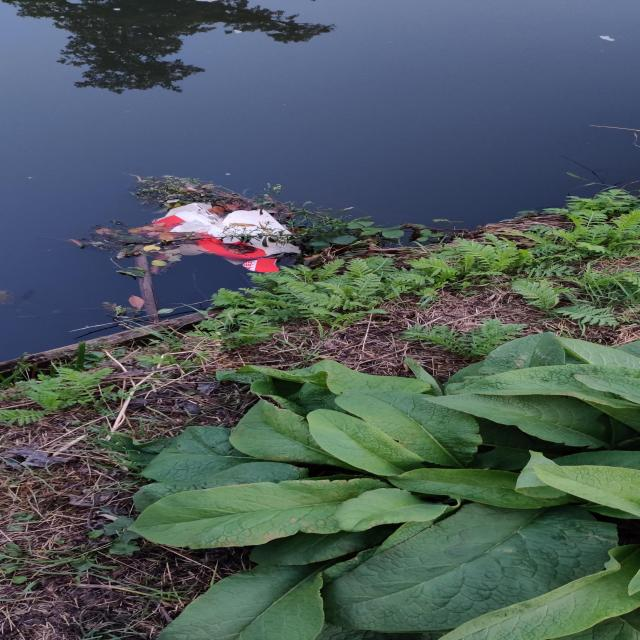litter: (151, 202, 301, 272)
